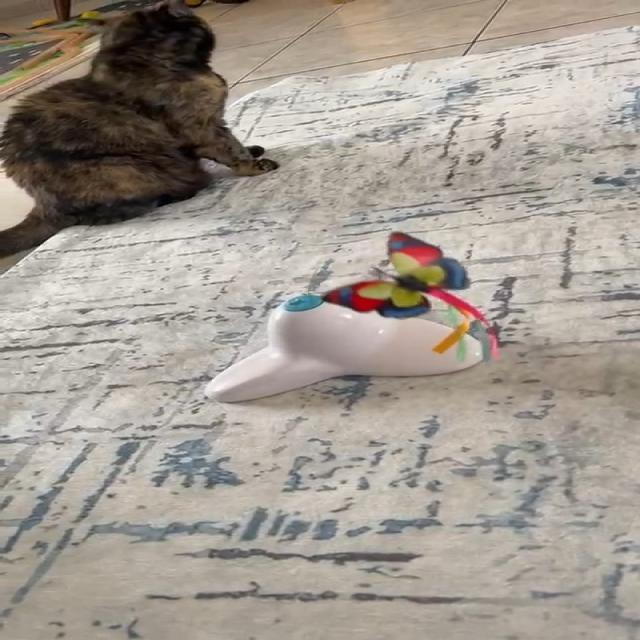authorized: (0, 0, 279, 259)
